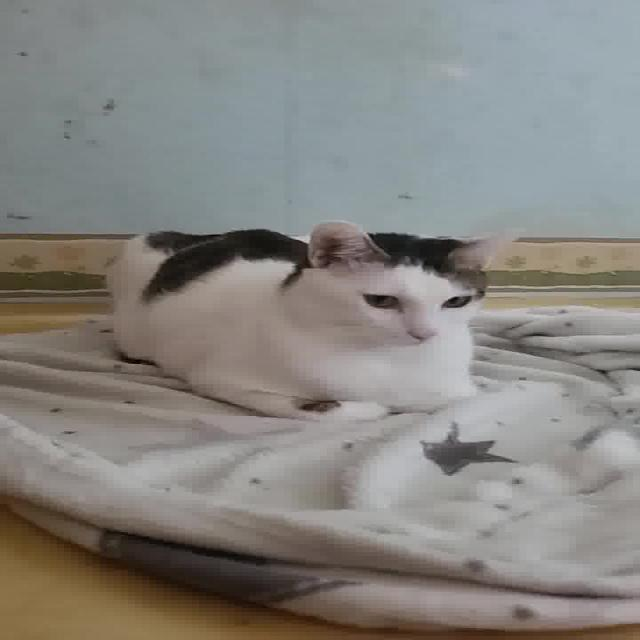cat: (95, 220, 535, 424)
